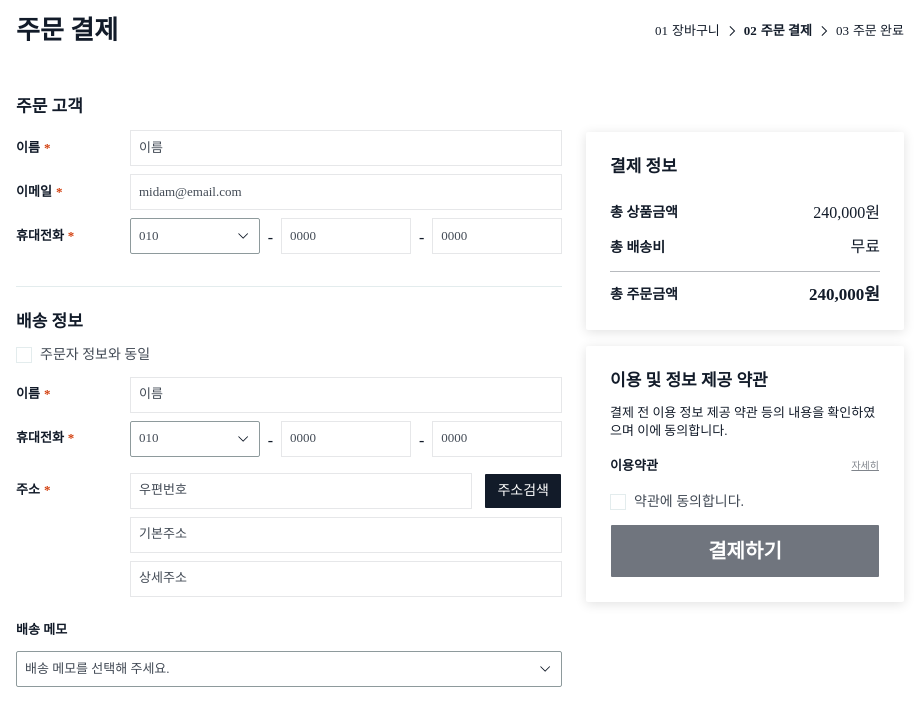
it: 주문 결제 › 약관 미동의는 비활성이고 잘못된 입력에는 오류와 포커스를 제공한다
expect the button "결제하기" is disabled: met, box x1=610 y1=524 x2=880 y2=578
Click the checkbox named "약관에 동의합니다." next to "약관에 동의합니다.": [618, 502] box x1=610 y1=494 x2=626 y2=510
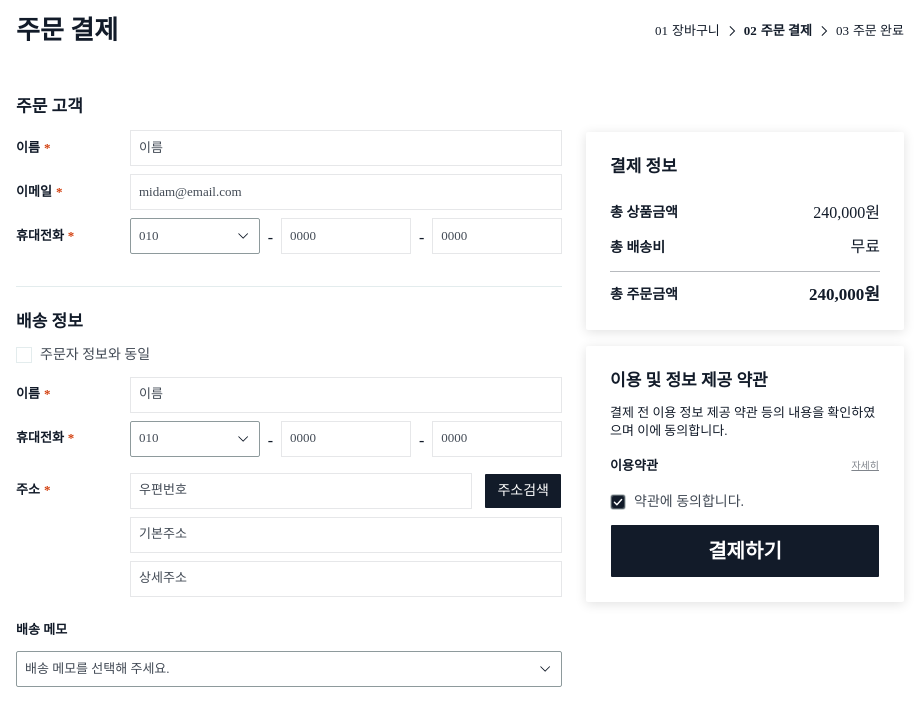
Click the button "결제하기": [745, 551] box x1=610 y1=524 x2=880 y2=578
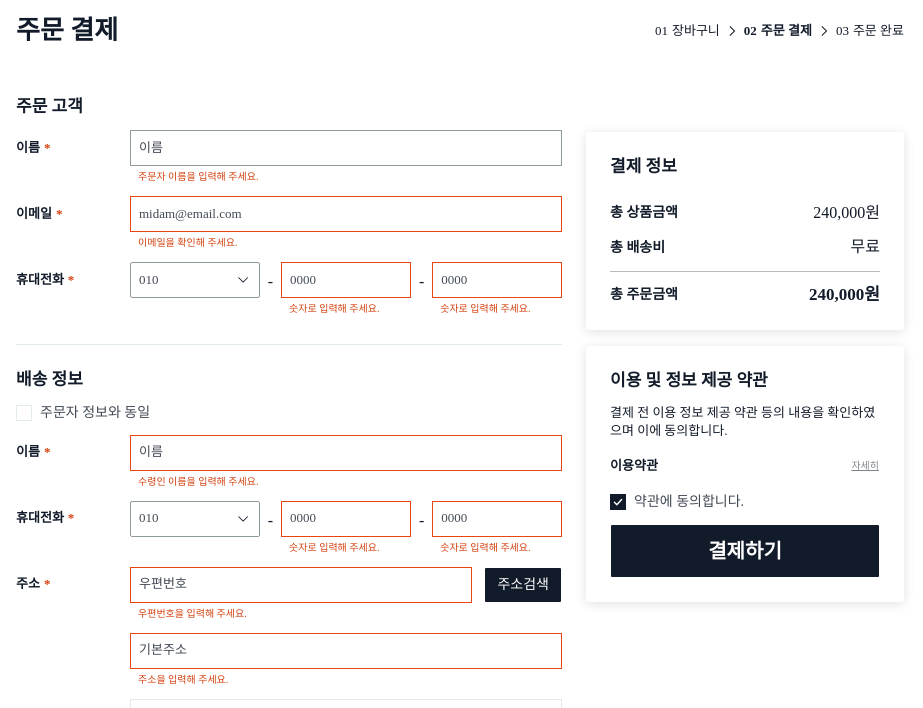
expect the text "주문자 이름을 입력해 주세요." is shown: met, box x1=138 y1=171 x2=258 y2=182
In the field named "주문자 이름": [346, 148] box x1=139 y1=139 x2=553 y2=157, type "홍길동"
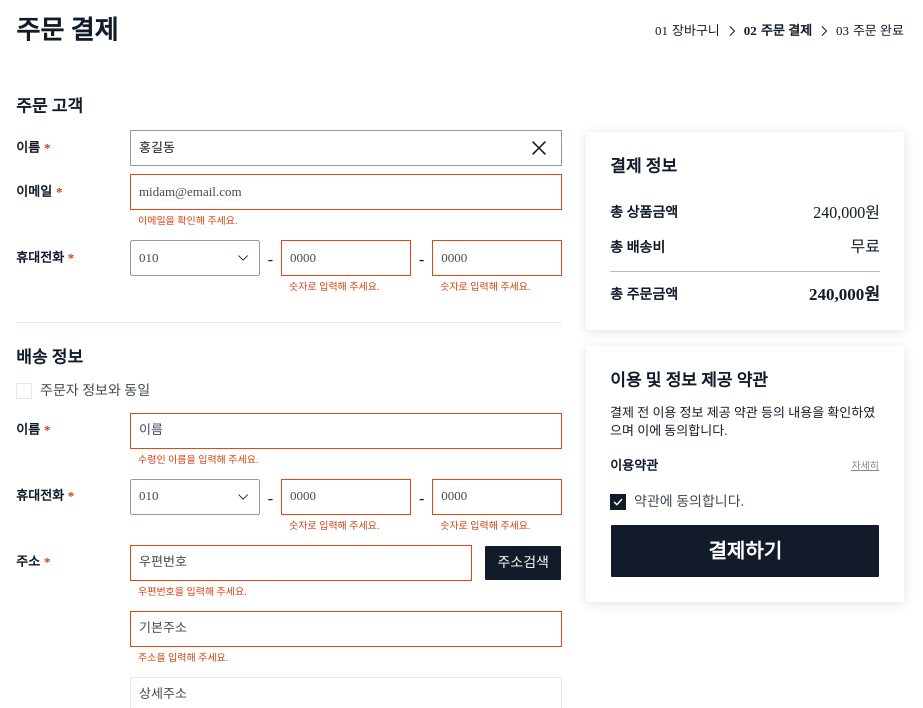
expect the text "주문자 이름을 입력해 주세요." is gone: met
